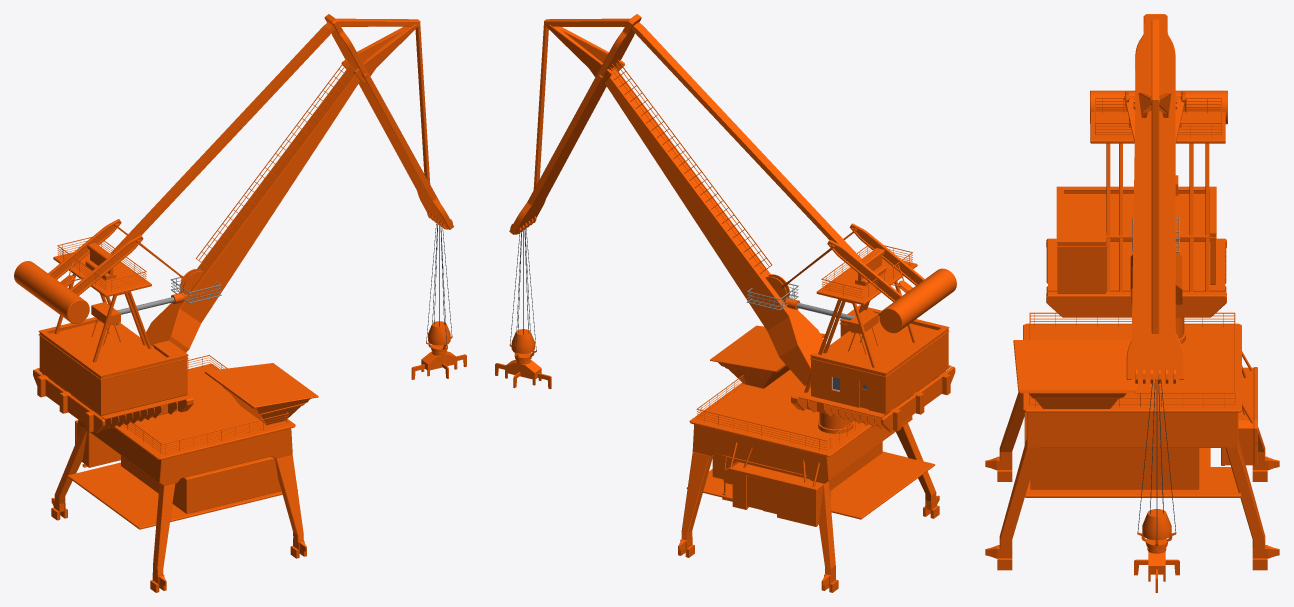
File: krane1.FBX
3 renders of one model, left to right at view 1: azimuth 30°, elevation 25°; view 2: azimuth 150°, elevation 25°; view 3: azimuth 270°, elevation 25°, orthographic. The views are drawn at different scales.
Parts seen in each view (by area): view 1: Arc01; view 2: Arc01; view 3: Arc01.
Part boxes in pixels (bbox=[...]): Arc01: bbox=[14, 14, 466, 592]; Arc01: bbox=[495, 14, 956, 592]; Arc01: bbox=[985, 14, 1279, 592].
Bounding box in the file's own units: 1781 × 1895 × 827.
